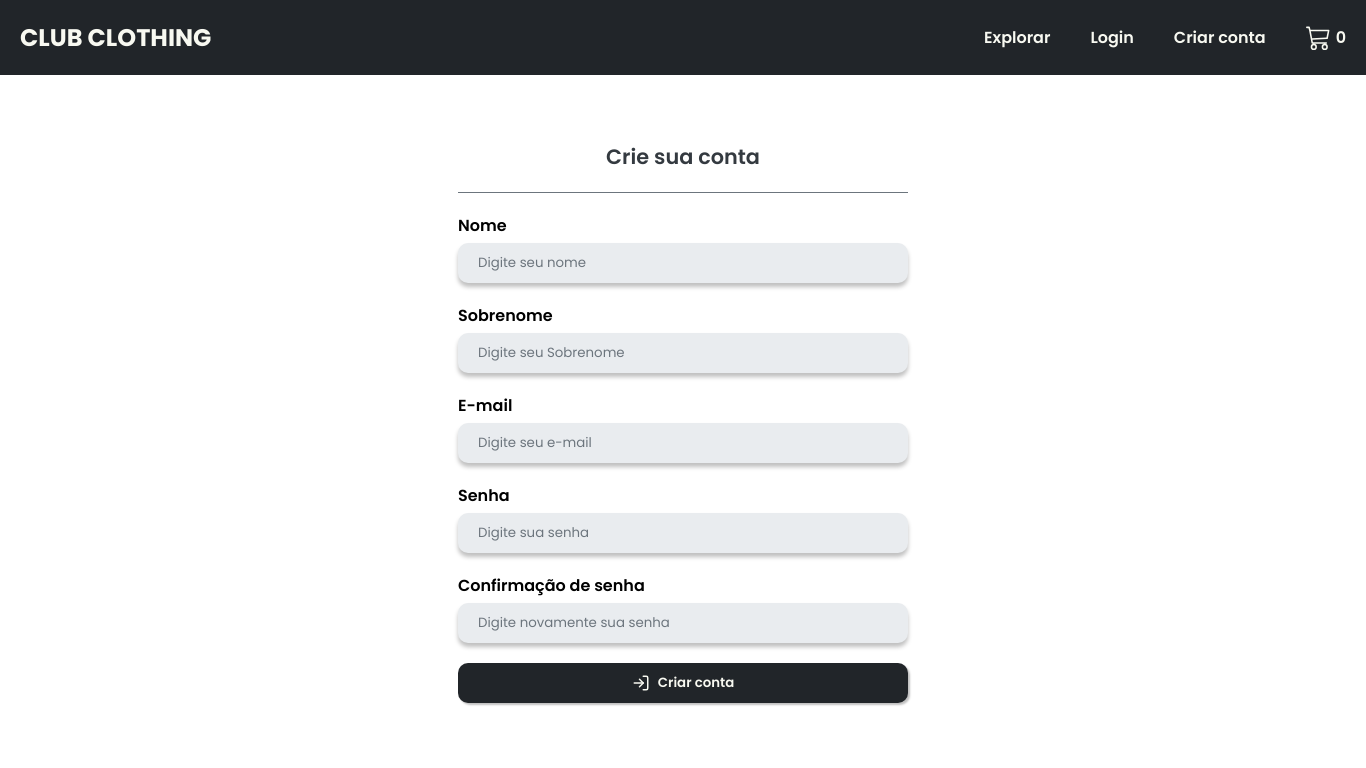
Sign Up › should show error when password and password confirmation are different
Step 1. Type "123456" into the password field with placeholder "Digite sua senha" → {"x": 683, "y": 532}, box [458,512,908,552]
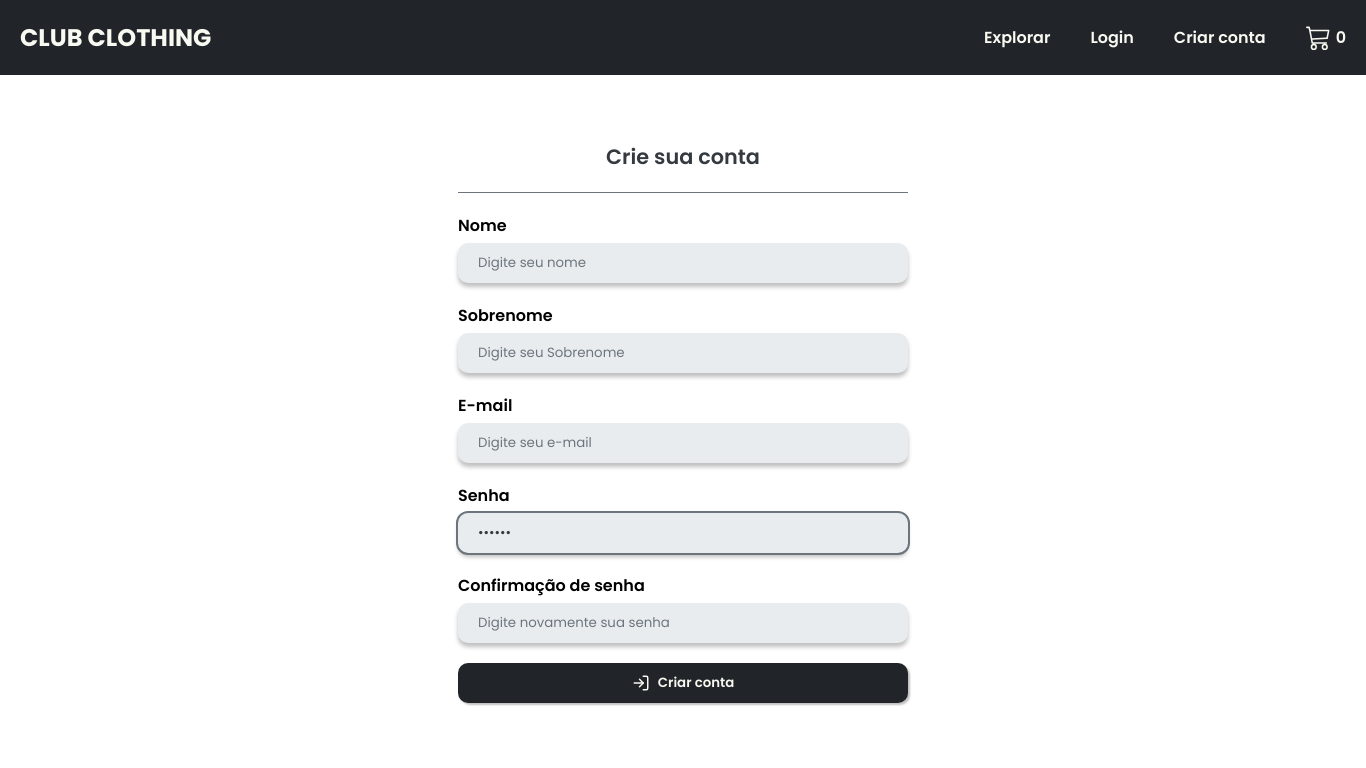
Step 2. Type "abcdef" into the password field with placeholder "Digite novamente sua senha" → {"x": 683, "y": 622}, box [458,602,908,642]
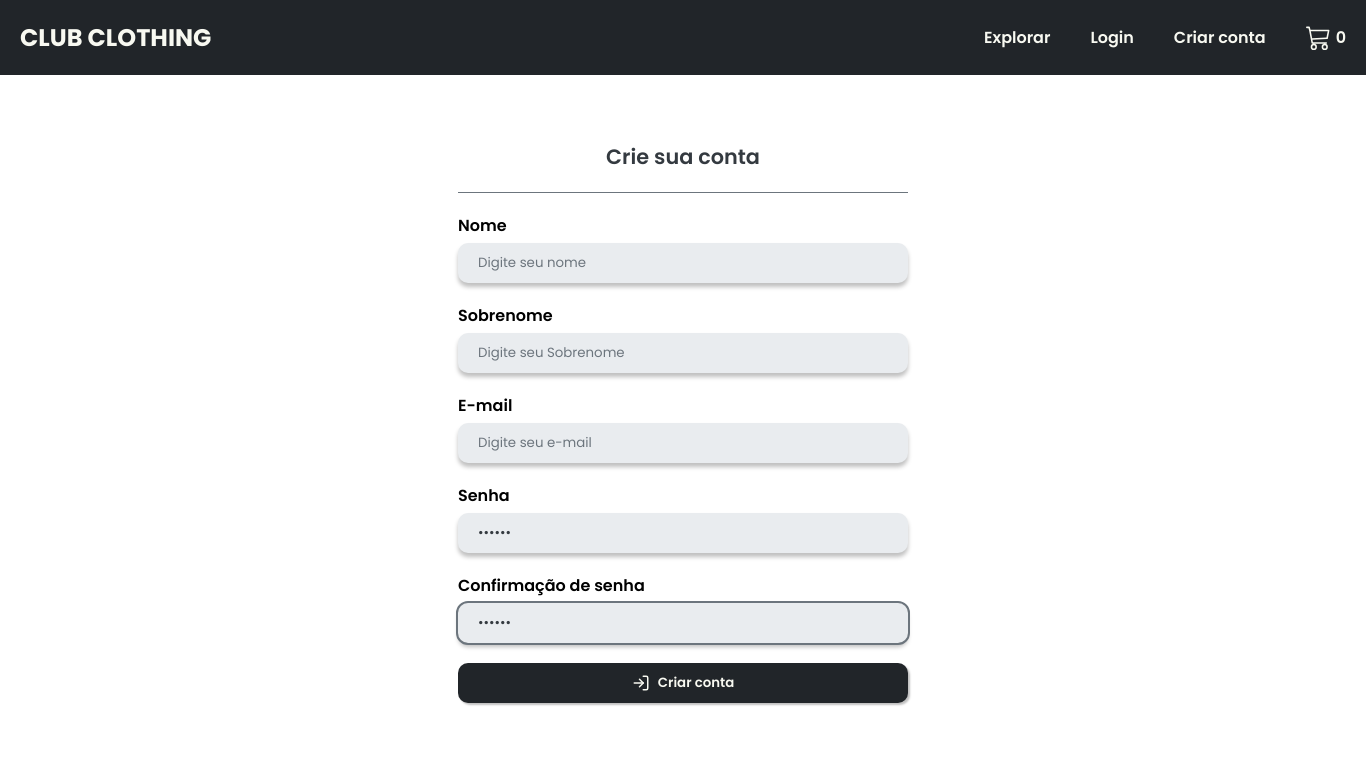
Step 3. Click the button "Criar conta" → {"x": 683, "y": 682}, box [458,662,908,702]
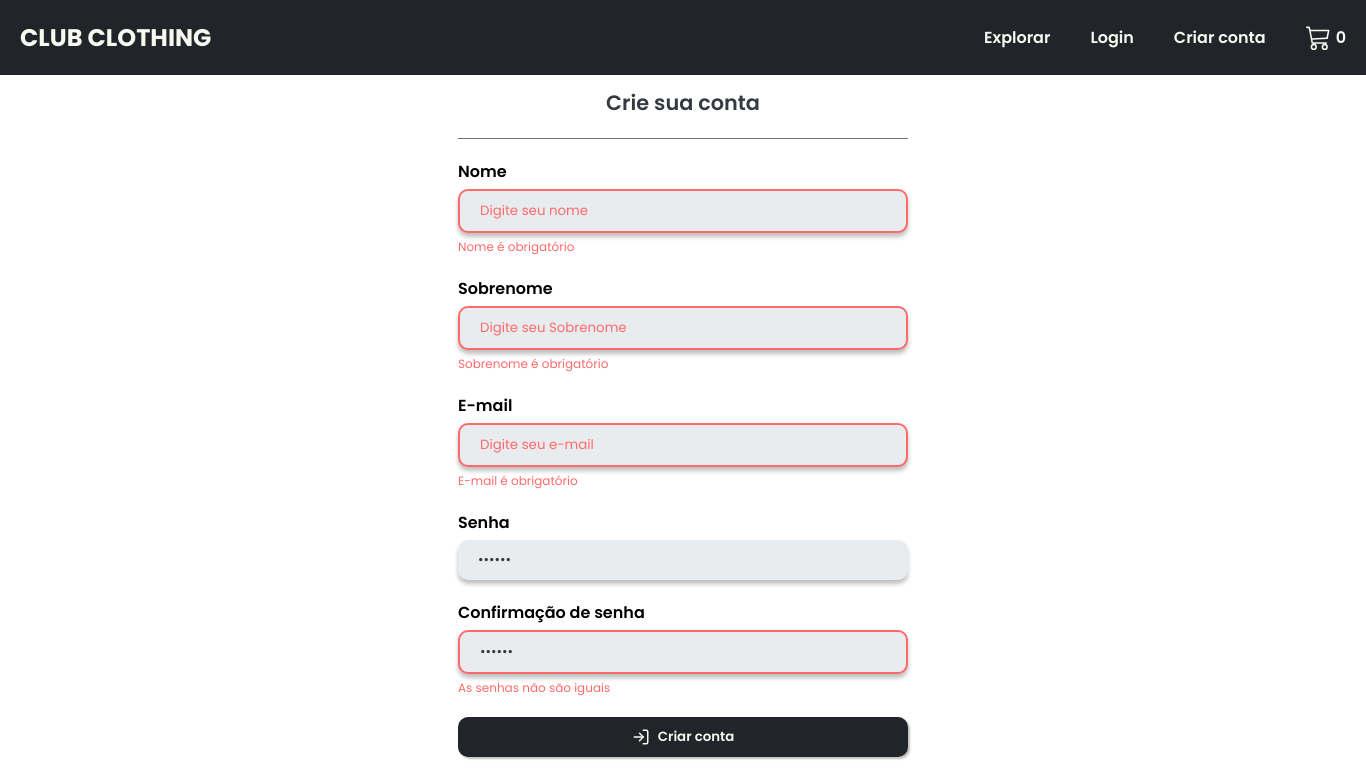
Check: the text "As senhas não são iguais" is shown, box [458,678,610,696]
